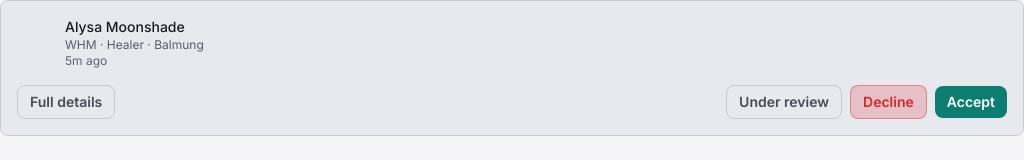
ApplicantRow — actions per status › Under review is disabled while Accept is in flight
Click the button "Accept" at [971, 102], box [935,86,1007,118]
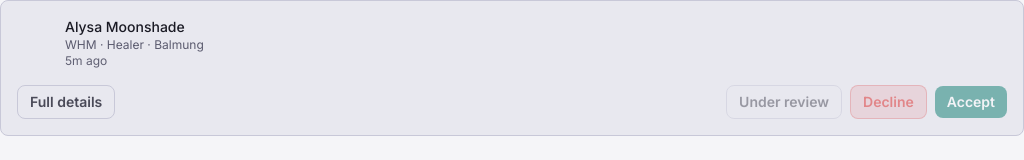
Now the button "Under review" is disabled, box [726,85,842,119]
